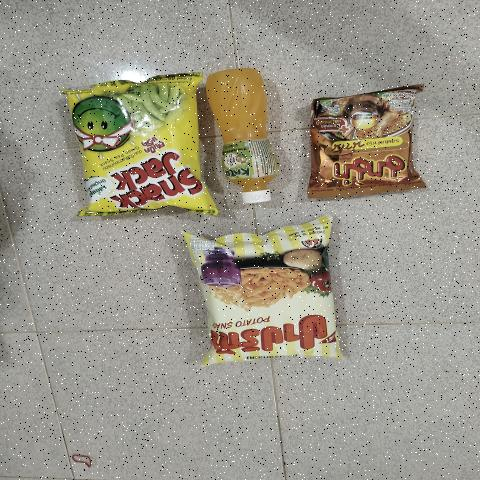mama: (315, 103, 409, 179)
paprika: (195, 243, 333, 359)
snack_jack: (92, 77, 197, 208)
